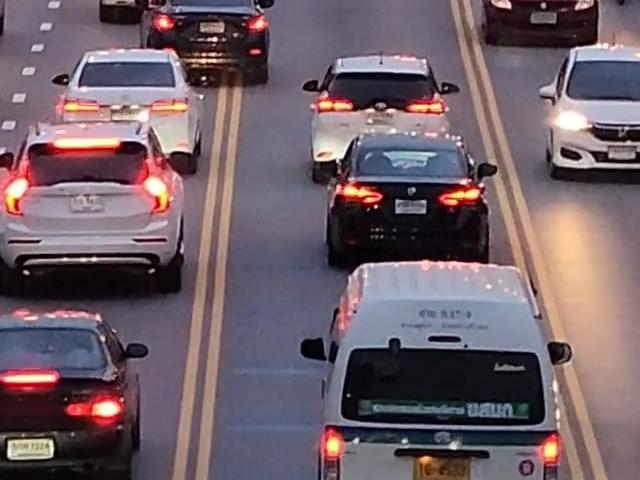car: (0, 121, 196, 298), (0, 305, 149, 480), (325, 137, 490, 265), (47, 47, 198, 172), (311, 50, 437, 173), (550, 45, 640, 195), (142, 0, 274, 77), (473, 0, 613, 51)
van: (286, 251, 596, 480)
